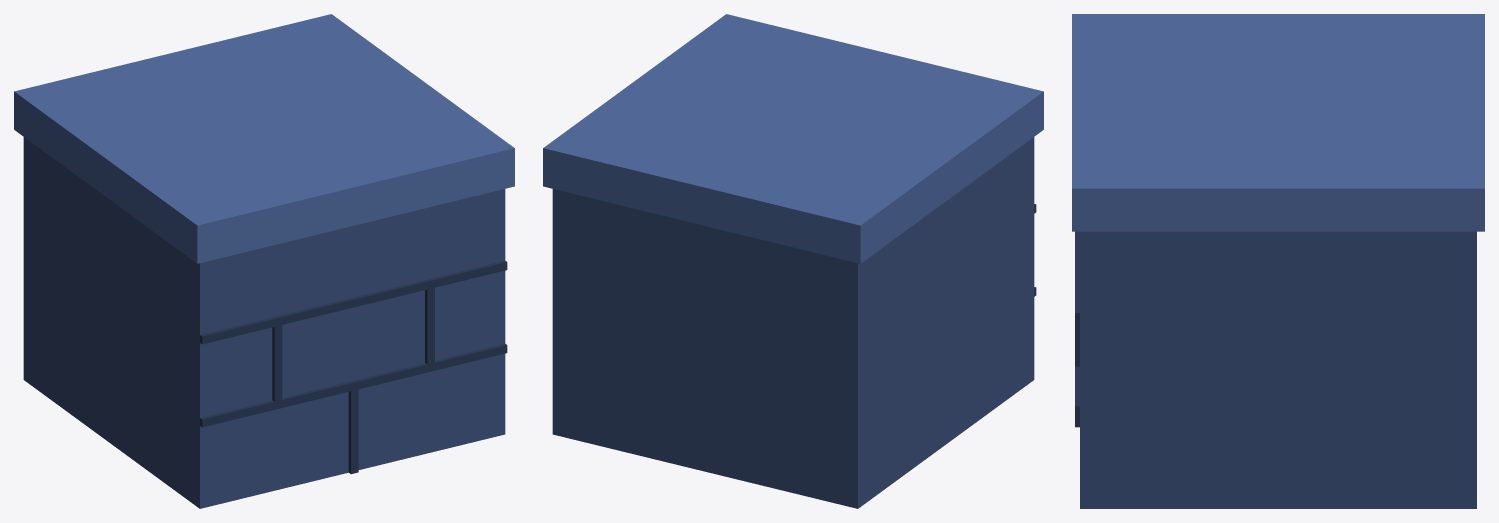
Rendered from k_frost_wall.glb.
The picture shows the model from 3 angles, left to right: view 1: azimuth 30°, elevation 25°; view 2: azimuth 150°, elevation 25°; view 3: azimuth 270°, elevation 25°; orthographic projection. The views are drawn at different scales.
Visible parts, largest first — view 1: piece; view 2: piece; view 3: piece.
Boxes of the visible parts, bbox=[...] form: piece: bbox=[14, 14, 514, 508]; piece: bbox=[543, 14, 1043, 508]; piece: bbox=[1072, 14, 1484, 508].
Bounding box in the file's own units: 1.04 × 0.9 × 1.04.
